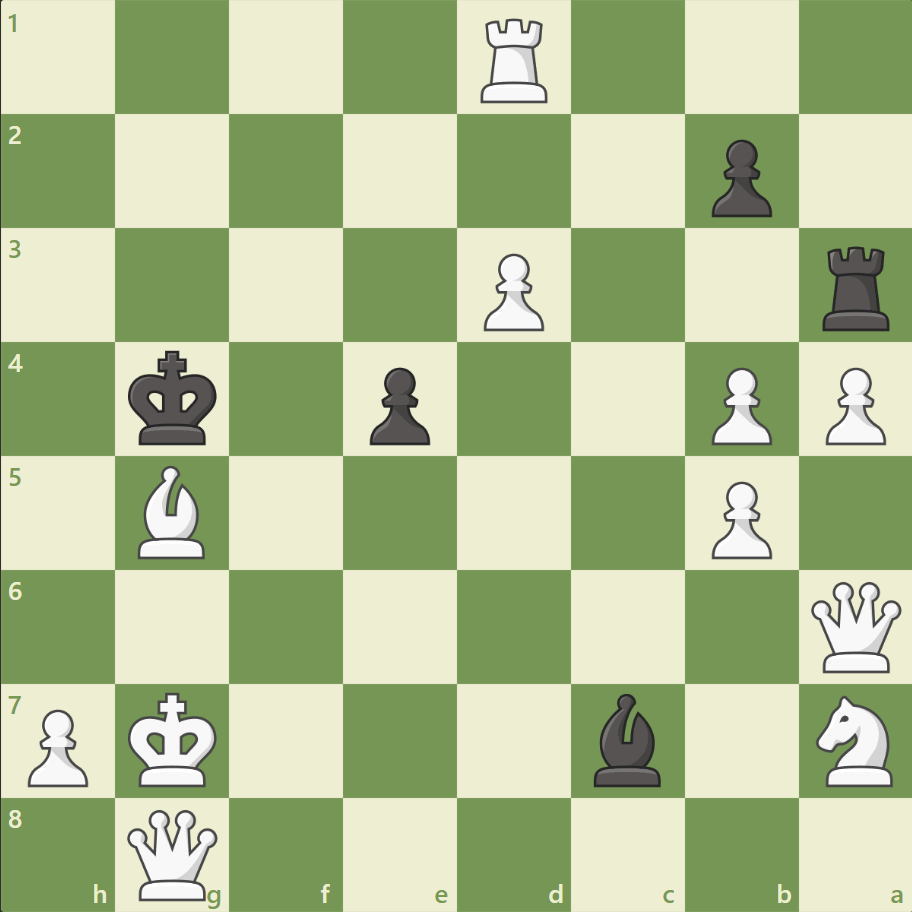B: (131, 460, 215, 563)
K: (124, 685, 224, 793)
N: (806, 688, 903, 791)
P: (20, 700, 95, 791), (701, 473, 776, 564), (701, 359, 776, 450), (474, 246, 549, 337), (815, 359, 889, 450)
Q: (805, 576, 904, 676), (124, 804, 223, 903)
R: (473, 12, 556, 109)
b: (585, 687, 669, 790)
k: (124, 344, 224, 452)
p: (701, 132, 776, 223), (361, 359, 435, 450)
r: (814, 239, 897, 336)
